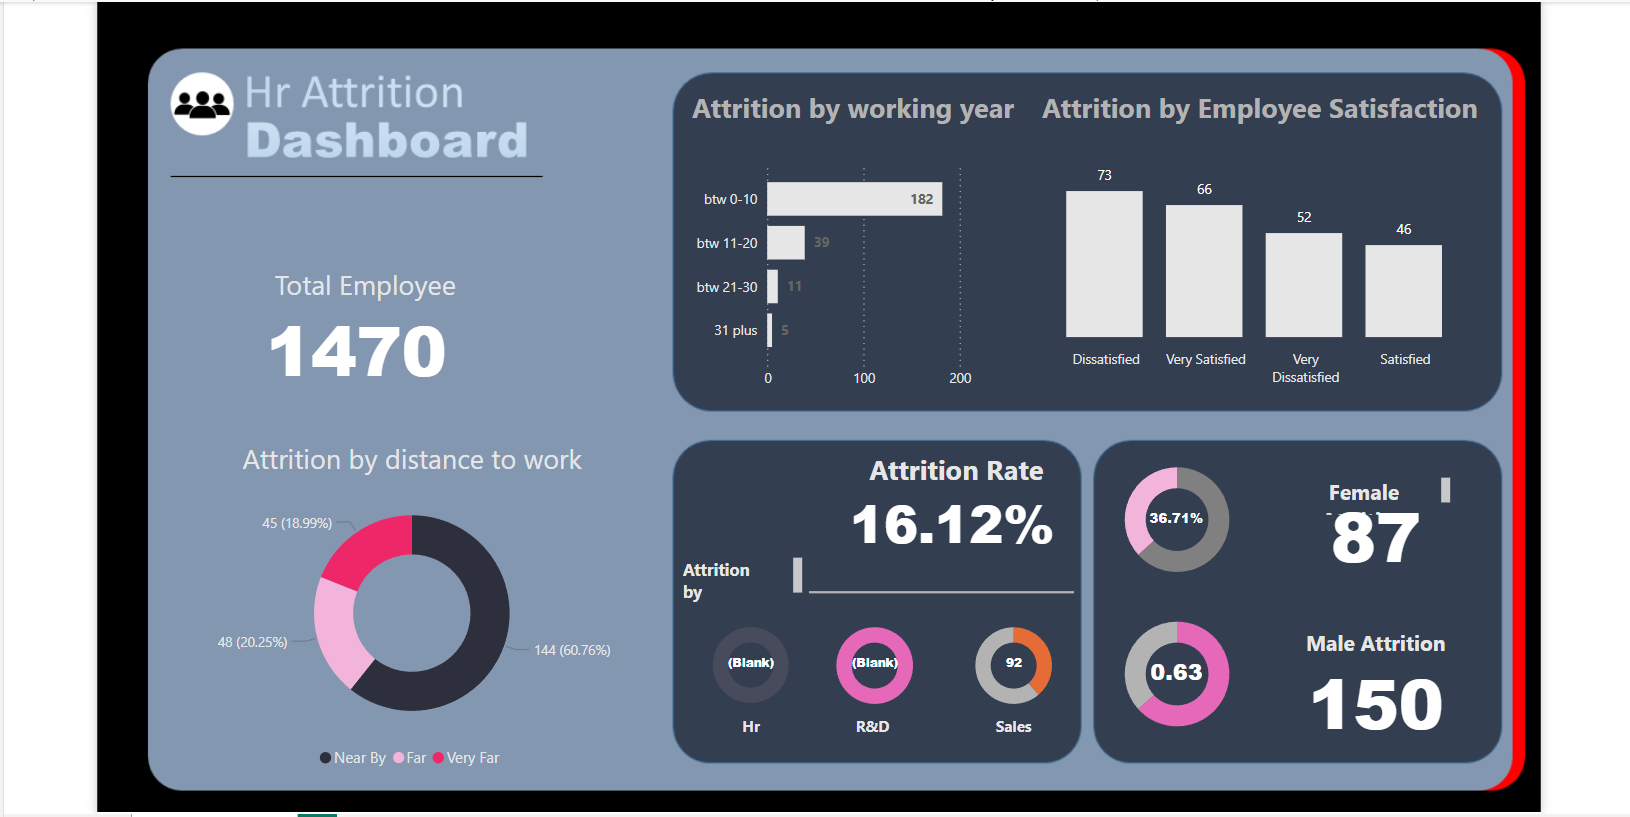

What the dashboard file says about the page in this screenshot:
{"tool":"powerbi","page":{"name":"Hr Attrition Dashboard","canvas":[1280,720],"ordinal":0},"visuals":[{"type":"donutChart","fields":{"Y":["All Measures.Total Attrition"],"Category":["HR-Employee-Attrition.Distance Status"]},"box":[58.4,424.1,441.6,265.5],"z":0},{"type":"barChart","fields":{"Y":["All Measures.Total Attrition"],"Category":["HR-Employee-Attrition.Working Years Group "]},"box":[521.3,131.3,270.4,220.8],"z":1000},{"type":"card","fields":{"Values":["All Measures.Total Employee"]},"box":[74.9,228.6,311.2,154.7],"z":2000},{"type":"columnChart","fields":{"Y":["All Measures.Total Attrition"],"Category":["HR-Employee-Attrition.Job Satisfaction Status"]},"box":[806.3,131.3,429.9,216.9],"z":3000},{"type":"card","fields":{"Values":["All Measures.% Attrition"]},"box":[661.4,424.1,193.6,74.9],"z":4000},{"type":"donutChart","fields":{"Y":["All Measures.HR Department","All Measures.Remain Hr"]},"box":[519.4,540.8,120.6,94.3],"z":5000},{"type":"donutChart","fields":{"Y":["All Measures.R&D Department","All Measures.Remain R&D"]},"box":[630.3,540.8,118.7,95.3],"z":6000},{"type":"donutChart","fields":{"Y":["All Measures.Sales Department","All Measures.Remain Sales"]},"box":[758.7,540.8,108,95.3],"z":7000},{"type":"donutChart","fields":{"Y":["All Measures.Total Attrition"],"Category":["HR-Employee-Attrition.Gender"]},"box":[894.8,395.9,126.4,127.4],"z":8000},{"type":"donutChart","fields":{"Y":["All Measures.Total Attrition"],"Category":["HR-Employee-Attrition.Gender"]},"box":[894.8,523.3,126.4,145.9],"z":9000},{"type":"textbox","box":[144.9,228.6,186.7,44.7],"z":10000},{"type":"textbox","box":[102.1,383.2,355,51.6],"z":11000},{"type":"textbox","box":[514.5,72,312.2,59.3],"z":12000},{"type":"textbox","box":[826.7,72,409.5,52.5],"z":13000},{"type":"textbox","box":[674,392.9,176,48.6],"z":14000},{"type":"card","fields":{"Values":["All Measures.HR Department"]},"box":[548.6,569,62.2,37.9],"z":15000},{"type":"card","fields":{"Values":["All Measures.R&D Department"]},"box":[658.5,569,62.2,37.9],"z":16000},{"type":"card","fields":{"Values":["All Measures.Sales Department"]},"box":[782,569,62.2,37.9],"z":17000},{"type":"textbox","box":[558.3,628.3,42.8,33.1],"z":18000},{"type":"textbox","box":[661.4,628.3,52.5,33.1],"z":19000},{"type":"textbox","box":[786.9,628.3,52.5,33.1],"z":20000},{"type":"textbox","box":[514.5,487.3,115.7,53.5],"z":21000},{"type":"shape","box":[631.2,509.7,235.4,27.2],"z":21001},{"type":"card","fields":{"Values":["All Measures.% Male Attrition"]},"box":[926,572.9,63.2,45.7],"z":21002},{"type":"card","fields":{"Values":["All Measures.% Female Attrition"]},"box":[926,436.7,63.2,45.7],"z":21003},{"type":"textbox","box":[1050,417,155,43],"z":21004},{"type":"textbox","box":[1050,551,168,43],"z":21005},{"type":"card","fields":{"Values":["All Measures.Total Attrition"]},"box":[1037,432,193,78],"z":21006},{"type":"card","fields":{"Values":["All Measures.Total Attrition"]},"box":[1037,580,193,78],"z":21007}]}

Visuals, with their boxes on the page's 1280x720 design canvas (x1, y1, x2, y2). These are canvas units, not pixel positions in the 1630x817 screenshot, which may show the page scaled, cropped or inside an application window:
donutChart - All Measures.Total Attrition x HR-Employee-Attrition.Distance Status: l=58, t=424, r=500, b=690
barChart - All Measures.Total Attrition x HR-Employee-Attrition.Working Years Group : l=521, t=131, r=792, b=352
card - All Measures.Total Employee: l=75, t=229, r=386, b=383
columnChart - All Measures.Total Attrition x HR-Employee-Attrition.Job Satisfaction Status: l=806, t=131, r=1236, b=348
card - All Measures.% Attrition: l=661, t=424, r=855, b=499
donutChart - All Measures.HR Department x All Measures.Remain Hr: l=519, t=541, r=640, b=635
donutChart - All Measures.R&D Department x All Measures.Remain R&D: l=630, t=541, r=749, b=636
donutChart - All Measures.Sales Department x All Measures.Remain Sales: l=759, t=541, r=867, b=636
donutChart - All Measures.Total Attrition x HR-Employee-Attrition.Gender: l=895, t=396, r=1021, b=523
donutChart - All Measures.Total Attrition x HR-Employee-Attrition.Gender: l=895, t=523, r=1021, b=669
textbox: l=145, t=229, r=332, b=273
textbox: l=102, t=383, r=457, b=435
textbox: l=514, t=72, r=827, b=131
textbox: l=827, t=72, r=1236, b=124
textbox: l=674, t=393, r=850, b=442
card - All Measures.HR Department: l=549, t=569, r=611, b=607
card - All Measures.R&D Department: l=658, t=569, r=721, b=607
card - All Measures.Sales Department: l=782, t=569, r=844, b=607
textbox: l=558, t=628, r=601, b=661
textbox: l=661, t=628, r=714, b=661
textbox: l=787, t=628, r=839, b=661
textbox: l=514, t=487, r=630, b=541
shape: l=631, t=510, r=867, b=537
card - All Measures.% Male Attrition: l=926, t=573, r=989, b=619
card - All Measures.% Female Attrition: l=926, t=437, r=989, b=482
textbox: l=1050, t=417, r=1205, b=460
textbox: l=1050, t=551, r=1218, b=594
card - All Measures.Total Attrition: l=1037, t=432, r=1230, b=510
card - All Measures.Total Attrition: l=1037, t=580, r=1230, b=658
